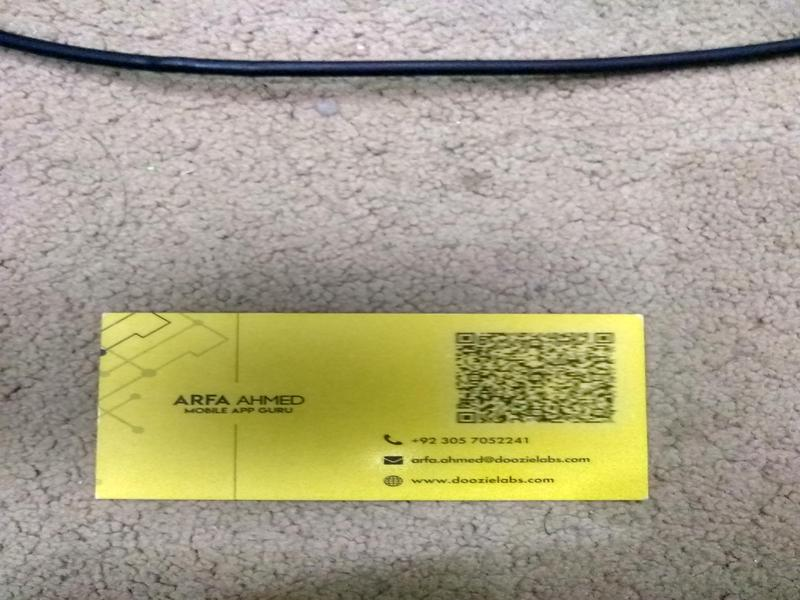front: (91, 314, 655, 506)
